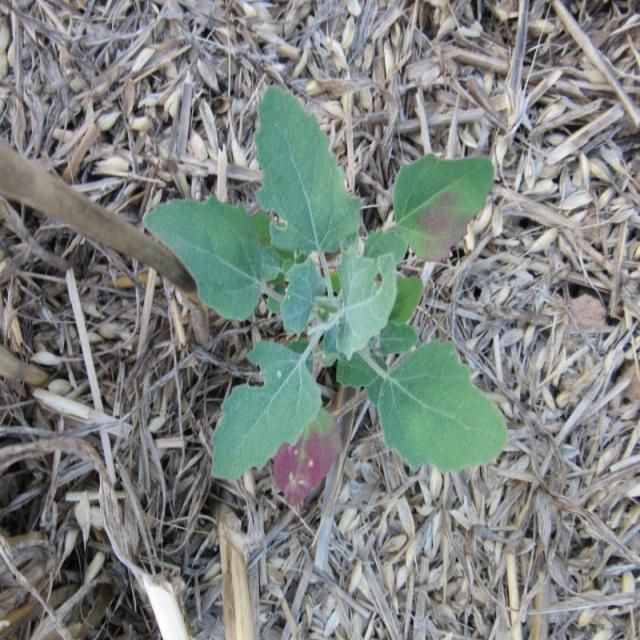ca: (149, 87, 506, 479)
